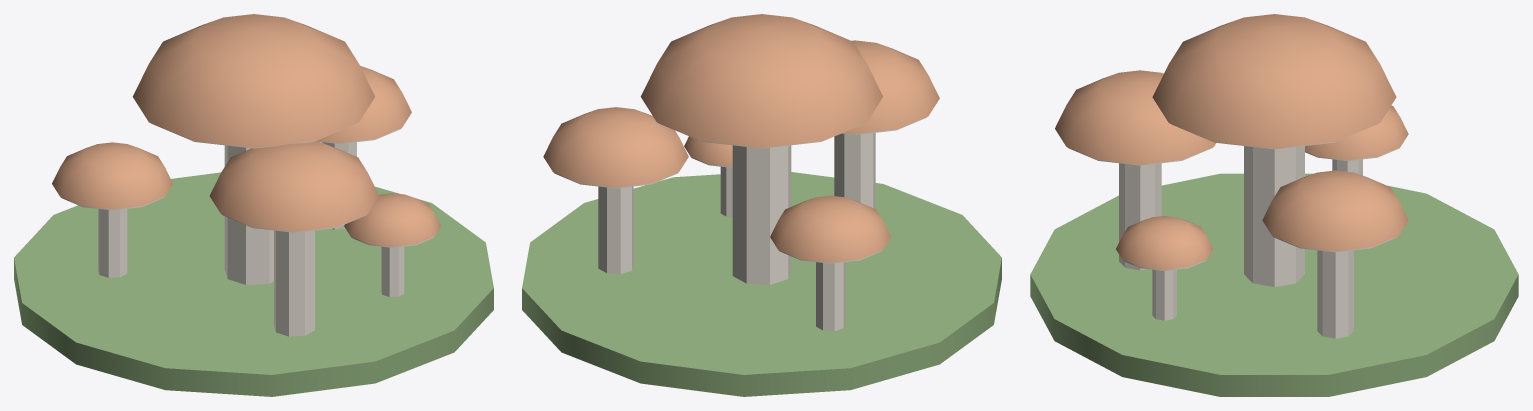
Rendered from Jamuran_Cluster.fbx.
3 views of the same model, side by side, from view 1: azimuth 30°, elevation 25°; view 2: azimuth 150°, elevation 25°; view 3: azimuth 270°, elevation 25° (orthographic).
Parts seen in each view (by area): view 1: Jamuran_Cluster; view 2: Jamuran_Cluster; view 3: Jamuran_Cluster.
Boxes of the visible parts, x1,y1,x2,y2 form: Jamuran_Cluster: (14,14,493,396); Jamuran_Cluster: (522,14,1001,396); Jamuran_Cluster: (1030,14,1518,396).
Bounding box in the file's own units: 0.7799 × 0.48 × 0.8.
